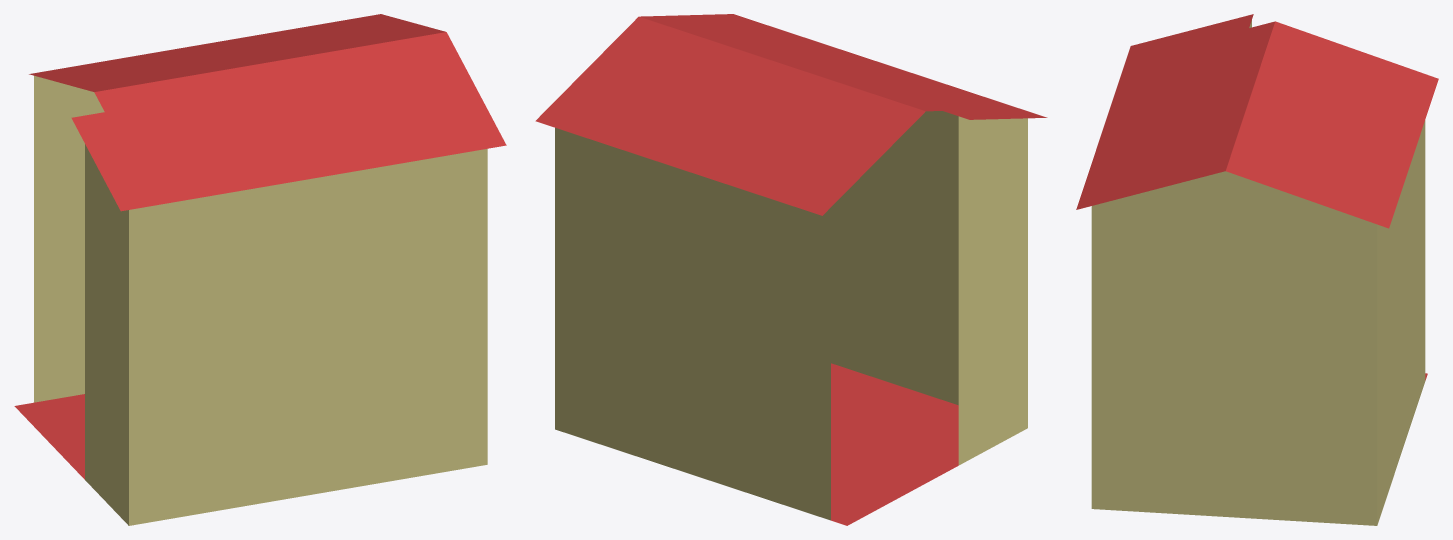
3 views of the same model, side by side, from view 1: azimuth 30°, elevation 25°; view 2: azimuth 150°, elevation 25°; view 3: azimuth 270°, elevation 25° (orthographic). The views are drawn at different scales.
Bounding box in the file's own units: 7.78 × 6.53 × 6.99.
